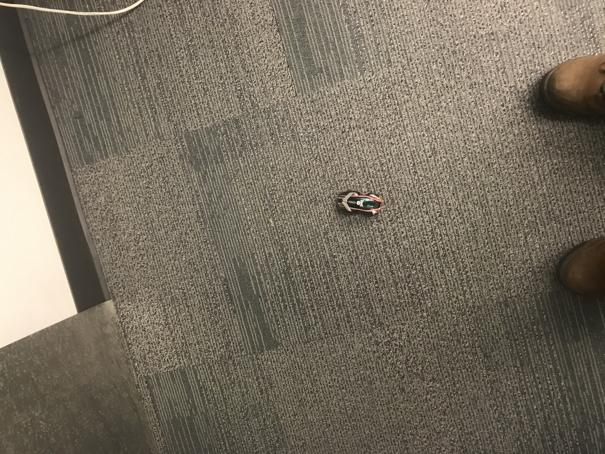Skull: (336, 191, 384, 216)
